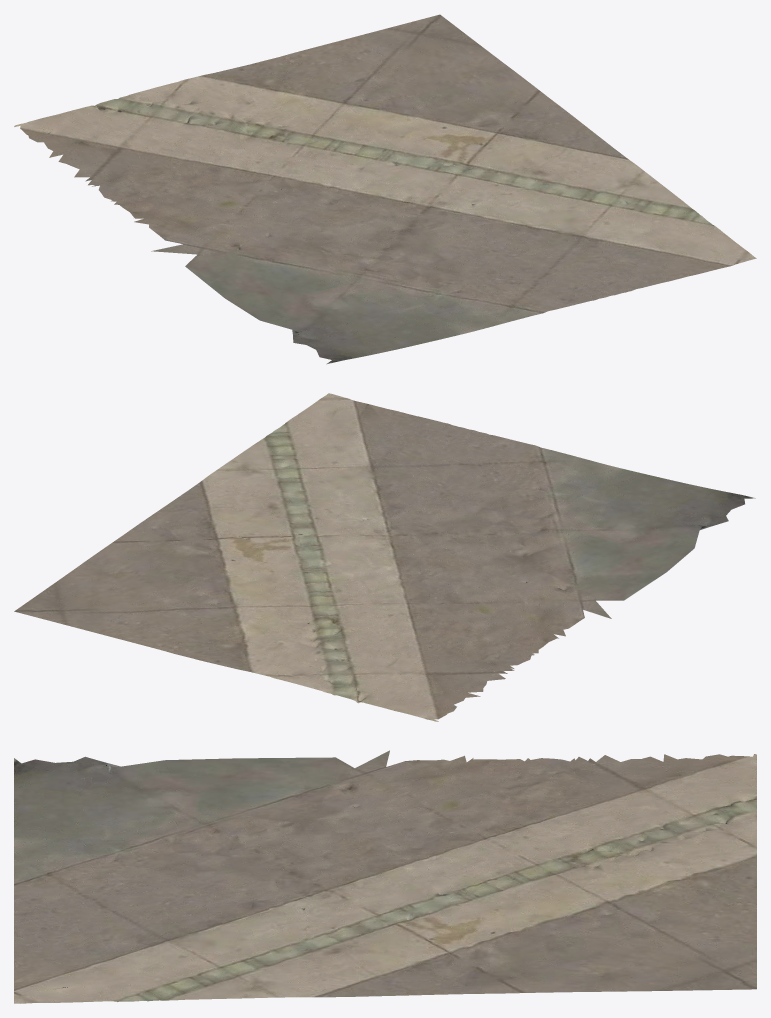
3 views of the same model, one above another, from view 1: azimuth 30°, elevation 25°; view 2: azimuth 150°, elevation 25°; view 3: azimuth 270°, elevation 25° (orthographic). The views are drawn at different scales.
Size of the model in its own units: 4.46 by 0.1587 by 5.49.
Materials: 1 (1 with a texture image).
